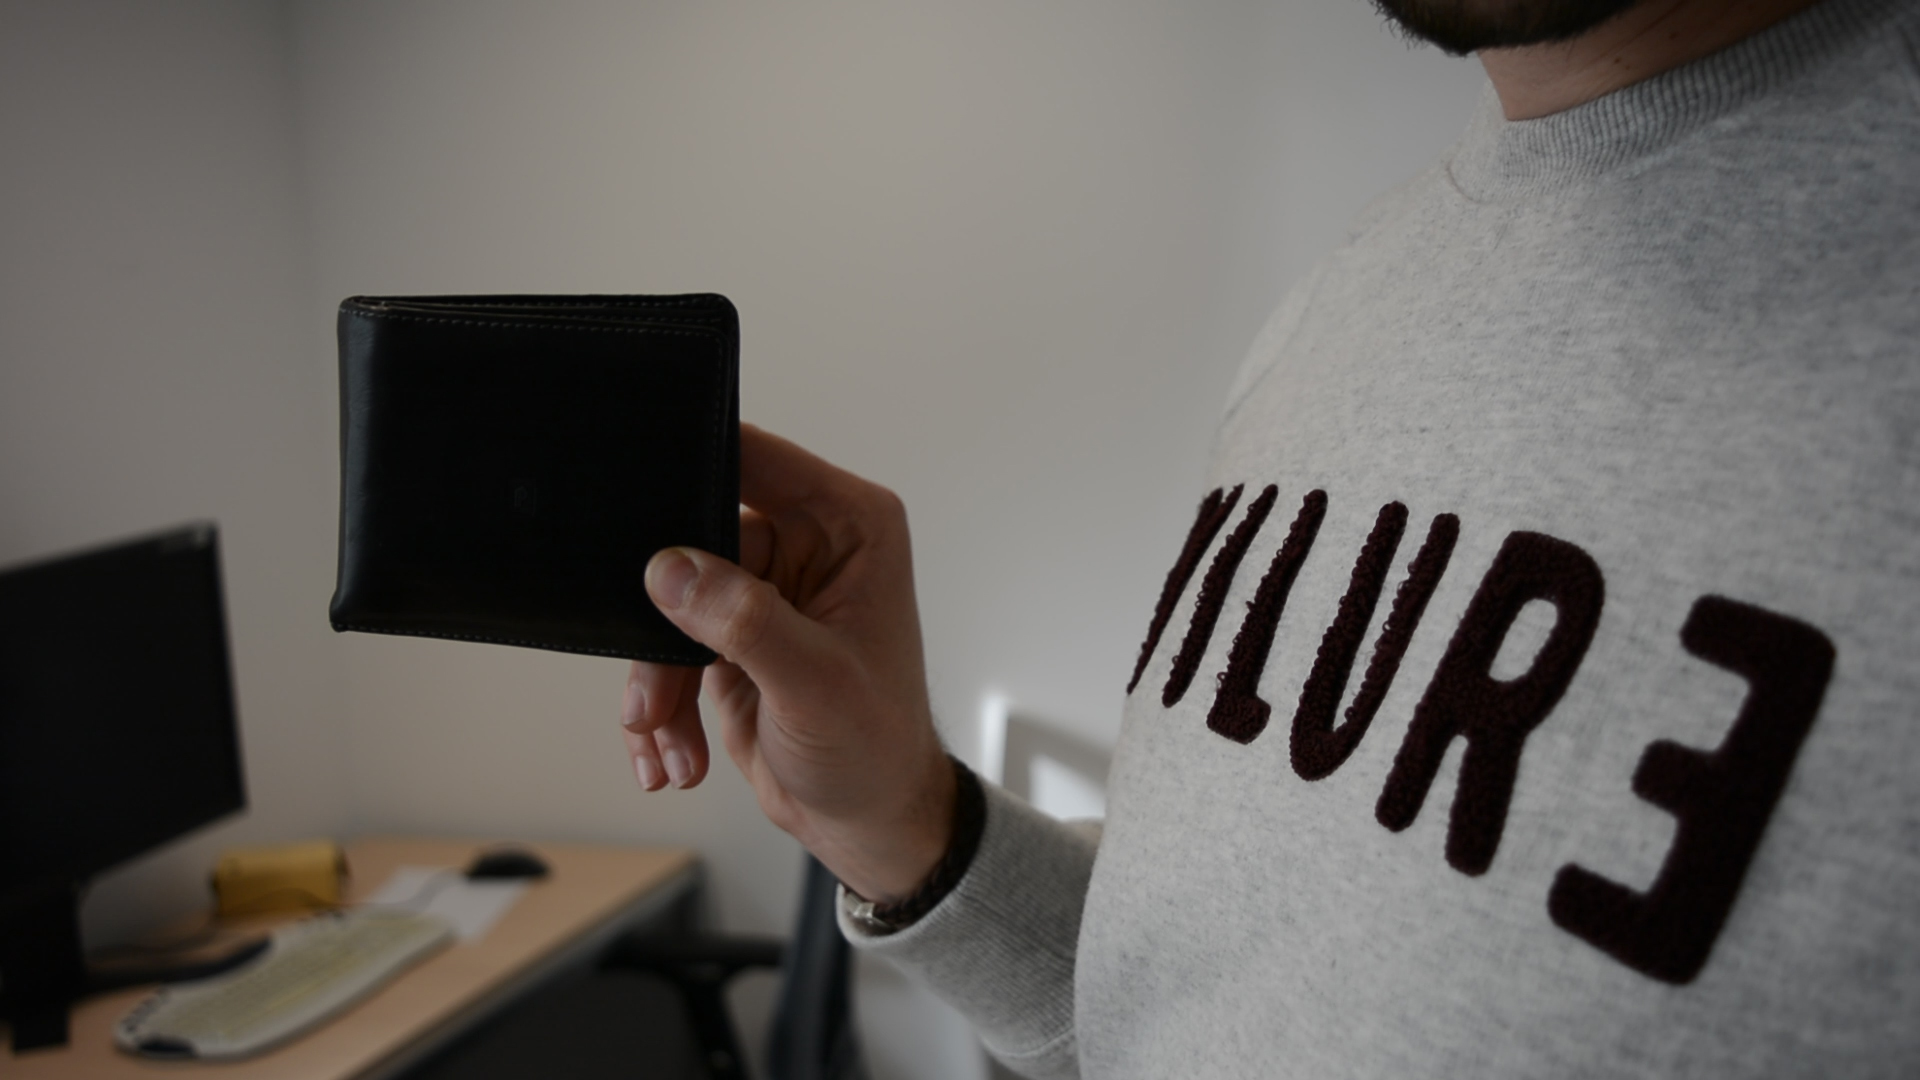monedero: (326, 290, 742, 669)
